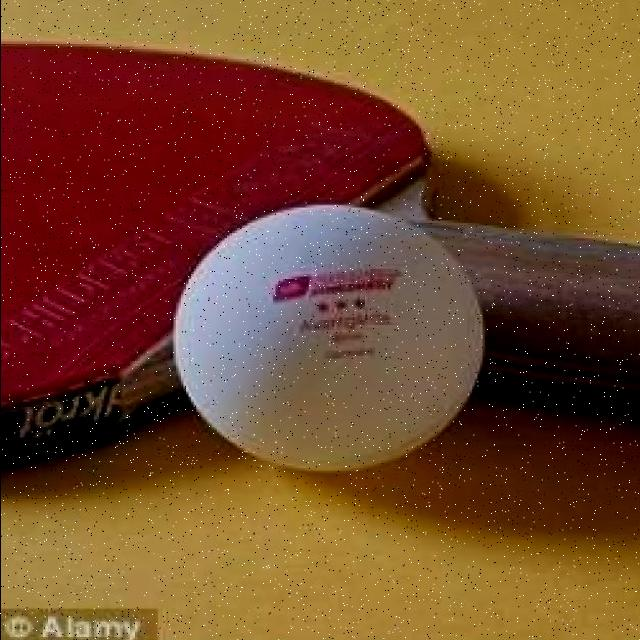ping-pong-ball: (172, 204, 483, 473)
